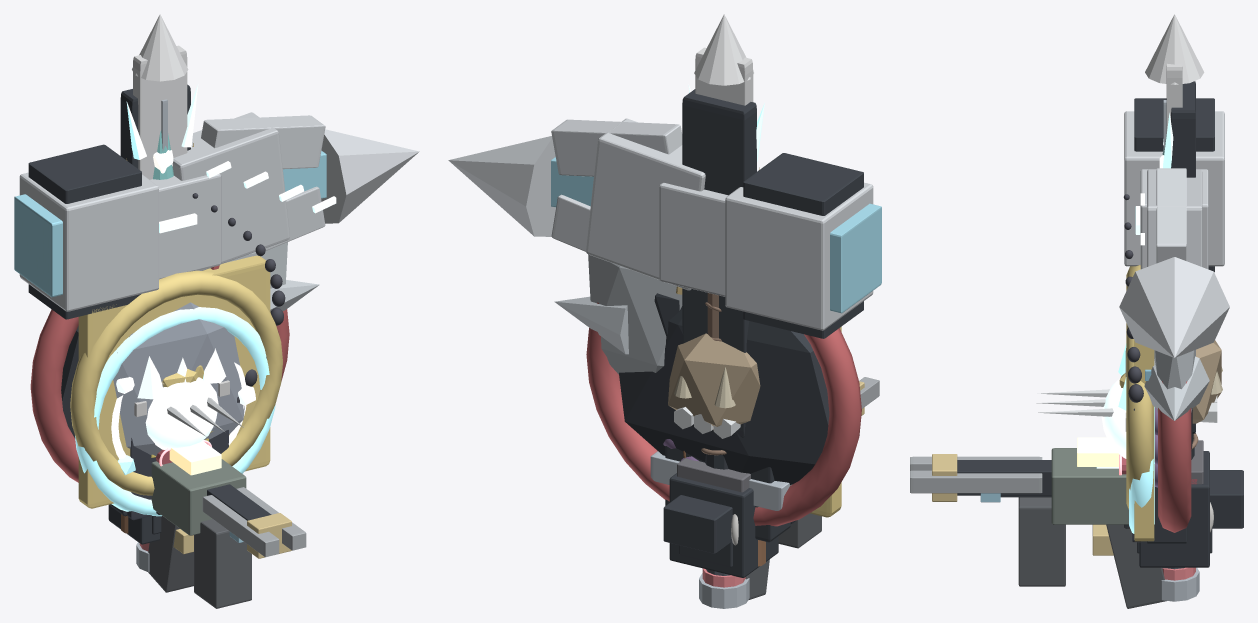
File: character_weapons.glb
3 views of the same model, side by side, from view 1: azimuth 30°, elevation 25°; view 2: azimuth 150°, elevation 25°; view 3: azimuth 270°, elevation 25° (orthographic). The views are drawn at different scales.
Visible parts, largest first — view 1: Hammer poll, Shield gold rim, Axe blade spine, Shield ring, Shield rim, Outer sigil, Stormbreaker forged socket, Fan rim, Axe edge tip, Hammer poll top facet, Forward grip, Hammer striking face (+22 smaller); view 2: War fan body, Hammer poll, Fan rim, Axe blade spine, Heavy spine, Stormbreaker forged socket, Axe edge tip, Broad axe blade, Club head, Hammer poll top facet, Hammer striking face, Axe blade upper facet (+16 smaller); view 3: Axe edge tip, Hammer poll, Receiver.001, Forward grip, Fan rim, Web shooter wrist cuff, Axe blade upper facet, Twin barrel.001, Shield gold rim, Grip.001, Hammer poll top facet, Axe blade spine (+20 smaller).
Part boxes in pixels (x1,y1,x2,y2): Hammer poll: [19, 172, 158, 311]; Shield gold rim: [70, 270, 282, 495]; Axe blade spine: [172, 112, 289, 270]; Shield ring: [113, 302, 244, 455]; Shield rim: [78, 255, 270, 508]; Outer sigil: [75, 307, 275, 516]; Stormbreaker forged socket: [150, 173, 221, 279]; Fan rim: [30, 309, 289, 482]; Axe edge tip: [321, 129, 419, 223]; Hammer poll top facet: [28, 144, 141, 203]; Forward grip: [194, 519, 251, 608]; Hammer striking face: [14, 194, 62, 297]; War fan body: [619, 309, 829, 485]; Hammer poll: [725, 182, 873, 330]; Fan rim: [586, 302, 861, 526]; Axe blade spine: [586, 118, 705, 290]; Heavy spine: [682, 89, 756, 437]; Stormbreaker forged socket: [659, 182, 727, 296]; Axe edge tip: [448, 136, 555, 236]; Broad axe blade: [588, 254, 682, 374]; Club head: [668, 333, 760, 429]; Hammer poll top facet: [743, 153, 863, 215]; Hammer striking face: [830, 203, 881, 313]; Axe blade upper facet: [551, 119, 682, 176]; Axe edge tip: [1119, 257, 1229, 357]; Hammer poll: [1124, 111, 1224, 266]; Receiver.001: [1051, 448, 1128, 524]; Forward grip: [1018, 497, 1065, 586]; Fan rim: [1158, 381, 1191, 532]; Web shooter wrist cuff: [1139, 451, 1209, 567]; Axe blade upper facet: [1156, 168, 1186, 263]; Twin barrel.001: [910, 470, 1042, 493]; Shield gold rim: [1126, 265, 1153, 509]; Grip.001: [1106, 524, 1166, 608]; Hammer poll top facet: [1134, 98, 1214, 151]; Axe blade spine: [1147, 169, 1202, 266].
Size of the model in its own units: 1.87 by 2.57 by 1.33.
